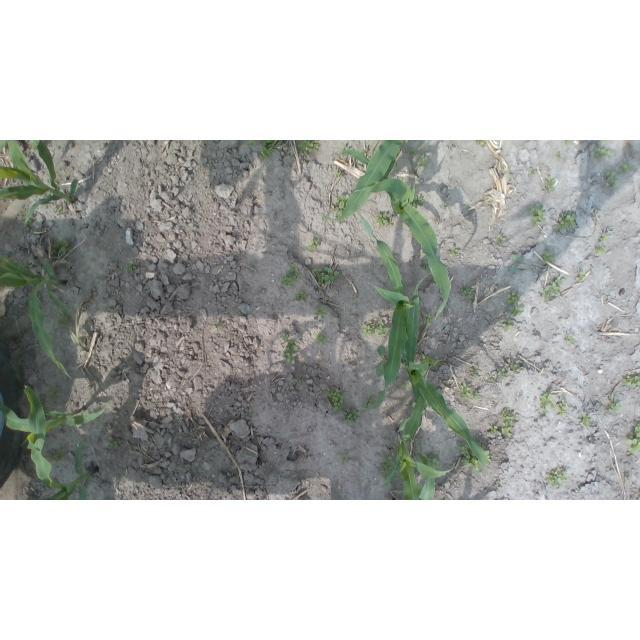Maize: (341, 150, 452, 321), (332, 192, 415, 413), (400, 272, 486, 477), (1, 256, 88, 379), (22, 385, 98, 500), (1, 384, 108, 450), (1, 141, 80, 224), (323, 141, 403, 222), (387, 431, 455, 500)
Weeds: (280, 334, 301, 365), (542, 275, 565, 301), (362, 316, 391, 336), (281, 264, 304, 289), (312, 267, 340, 286), (379, 455, 402, 478), (500, 407, 516, 437), (506, 290, 524, 316), (554, 212, 577, 232), (546, 468, 568, 488), (327, 388, 345, 412), (51, 238, 75, 256), (627, 423, 640, 454), (528, 204, 546, 226), (296, 140, 320, 156), (458, 382, 479, 400), (538, 387, 552, 413), (457, 444, 472, 468), (377, 346, 388, 377), (260, 140, 277, 160), (46, 448, 68, 463), (508, 254, 524, 274), (420, 355, 440, 369), (345, 408, 360, 425), (595, 147, 616, 159), (376, 213, 393, 227), (623, 374, 640, 388), (427, 454, 441, 471), (315, 303, 328, 320), (607, 398, 621, 413), (314, 331, 329, 345), (416, 155, 431, 169), (411, 194, 425, 209), (606, 171, 619, 187), (307, 236, 321, 250), (336, 194, 350, 208), (460, 288, 475, 301), (544, 176, 556, 192), (55, 315, 69, 328), (471, 453, 481, 471), (581, 412, 592, 428), (48, 387, 61, 400), (105, 439, 121, 449), (502, 319, 515, 331), (558, 399, 567, 416), (364, 395, 376, 407), (543, 252, 554, 265), (127, 260, 138, 273), (332, 205, 344, 216), (499, 368, 509, 381), (512, 363, 525, 373), (470, 364, 480, 376), (619, 163, 631, 173), (296, 292, 309, 301), (594, 245, 606, 254), (339, 453, 349, 463), (424, 313, 433, 324), (448, 248, 459, 257), (244, 140, 256, 148), (423, 260, 430, 273), (577, 271, 586, 281), (485, 450, 492, 462), (408, 148, 417, 157), (54, 204, 63, 213), (24, 220, 33, 229), (498, 236, 507, 244), (529, 166, 538, 174), (566, 335, 574, 344), (489, 424, 497, 432), (40, 400, 48, 408), (294, 380, 301, 389), (400, 382, 409, 389), (476, 140, 486, 146), (41, 251, 47, 260), (601, 233, 608, 240), (335, 172, 343, 178), (552, 404, 561, 409), (563, 141, 571, 146), (23, 264, 29, 270), (363, 148, 370, 153), (249, 412, 255, 417), (488, 376, 495, 380), (392, 163, 396, 170), (80, 300, 89, 303), (216, 320, 221, 325), (47, 192, 53, 196), (412, 403, 416, 408), (60, 287, 64, 291), (279, 140, 283, 142)
